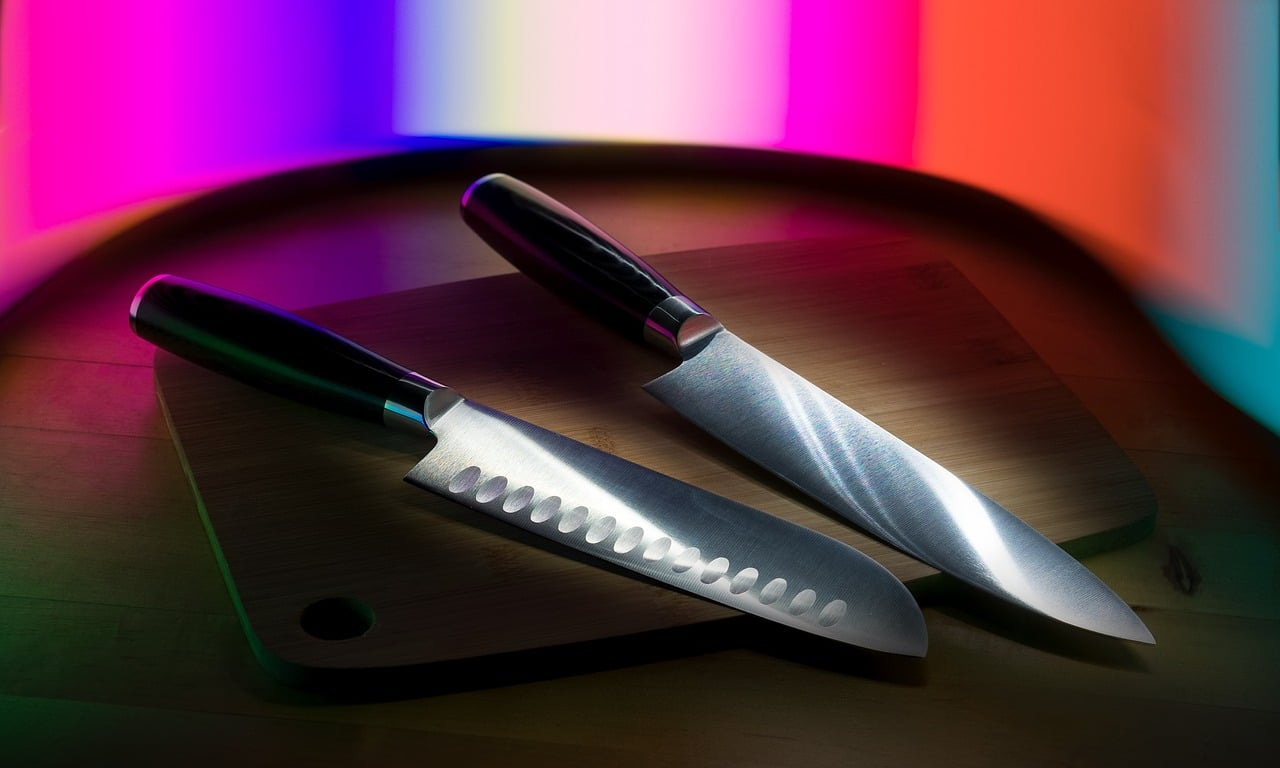knife: (125, 266, 977, 682), (447, 160, 1166, 649)
